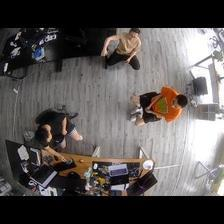normal: (28, 101, 85, 150), (126, 85, 189, 128), (101, 29, 144, 68)
